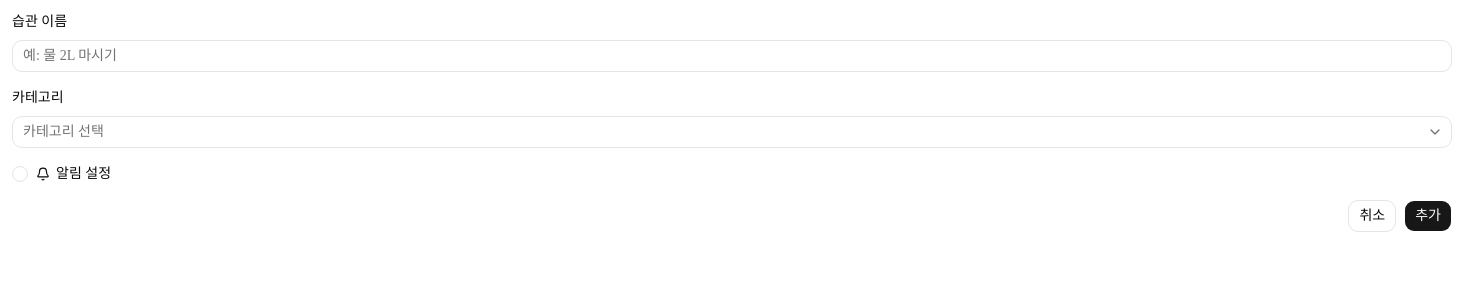
HabitForm › 빈 제목으로 제출 시 에러 메시지를 표시한다
Click the button "추가". click: (1428,216)
box: [1404,200,1452,232]
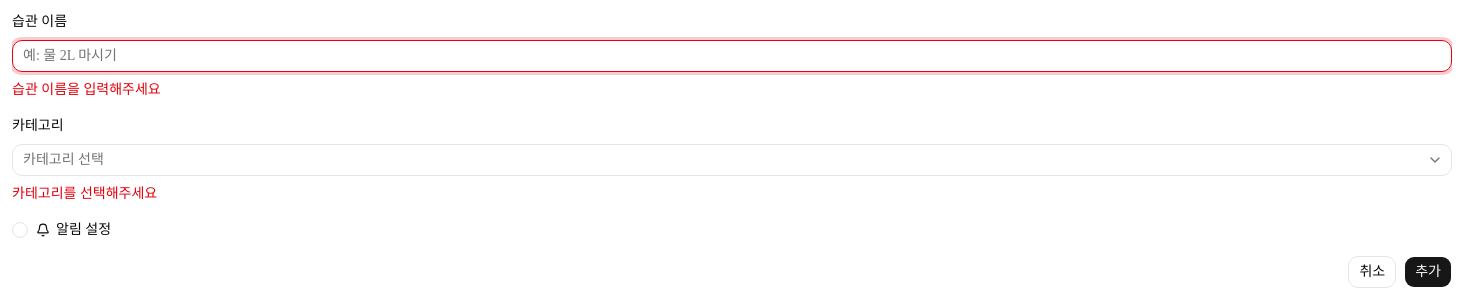
Result: the text "습관 이름을 입력해주세요" is shown at [12,82,161,97]
